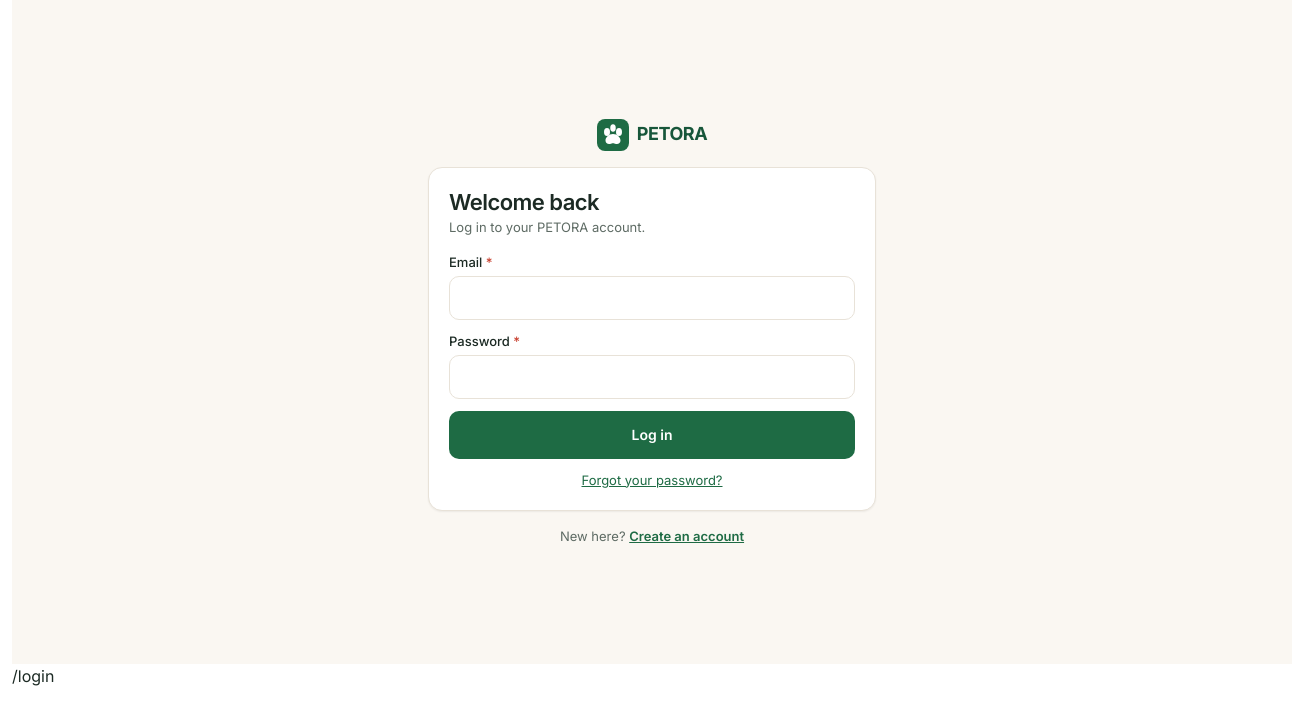
Test: login form › rejects a malformed email
Type "not-an-email" into the field labelled "Email *" at [652, 298], box [449,276,855,320]
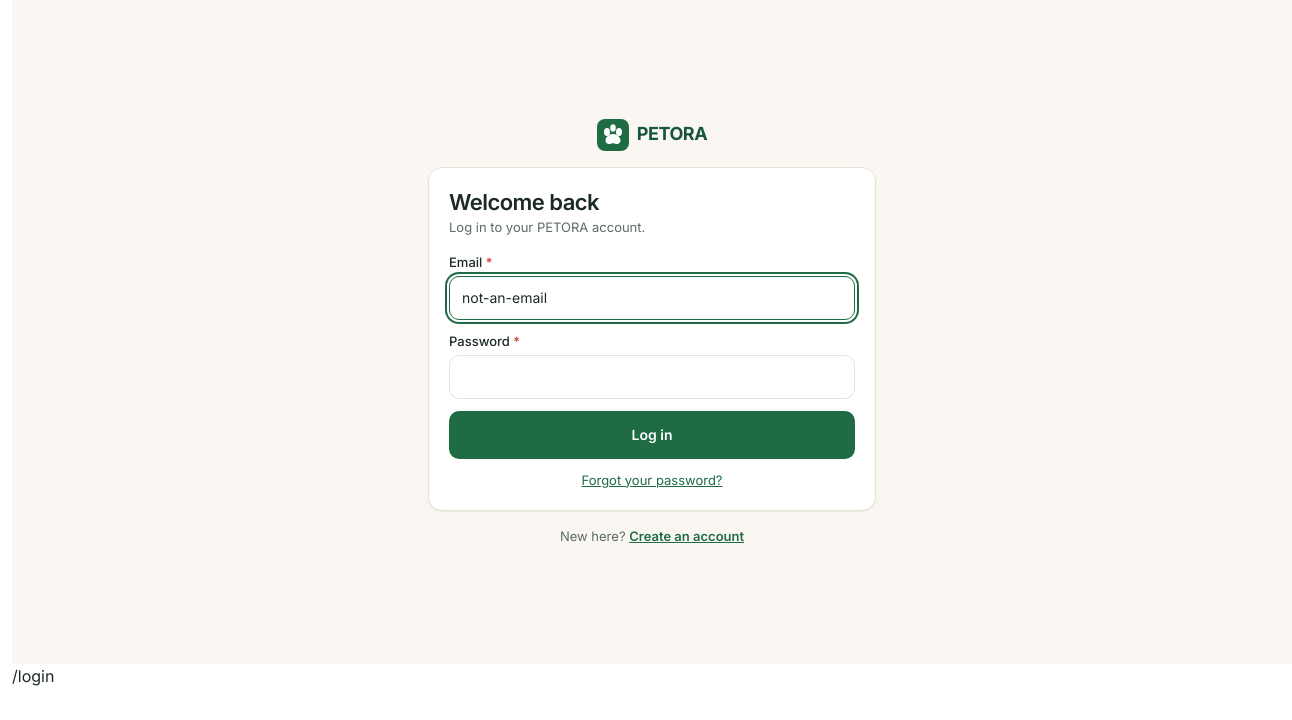
Type "x" into the password field labelled "Password *" at [652, 377], box [449,355,855,399]
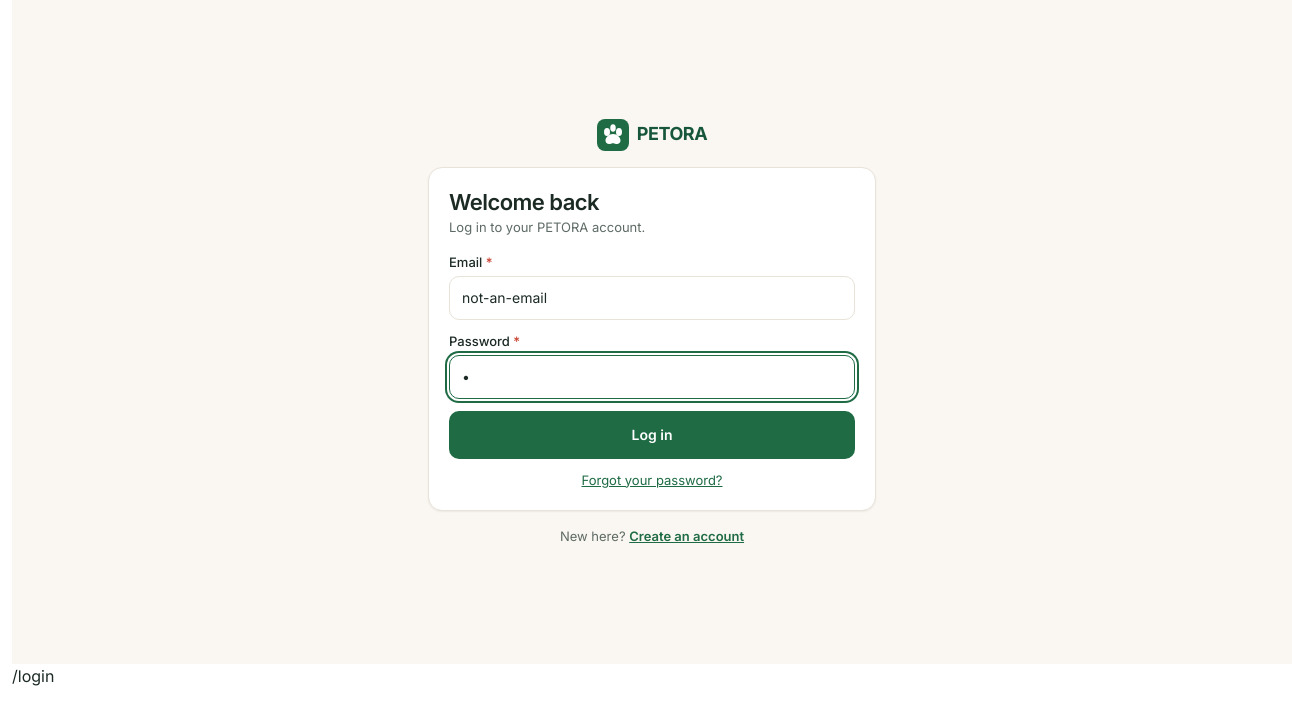
Click the button "Log in" at [652, 435], box [449,411,855,459]
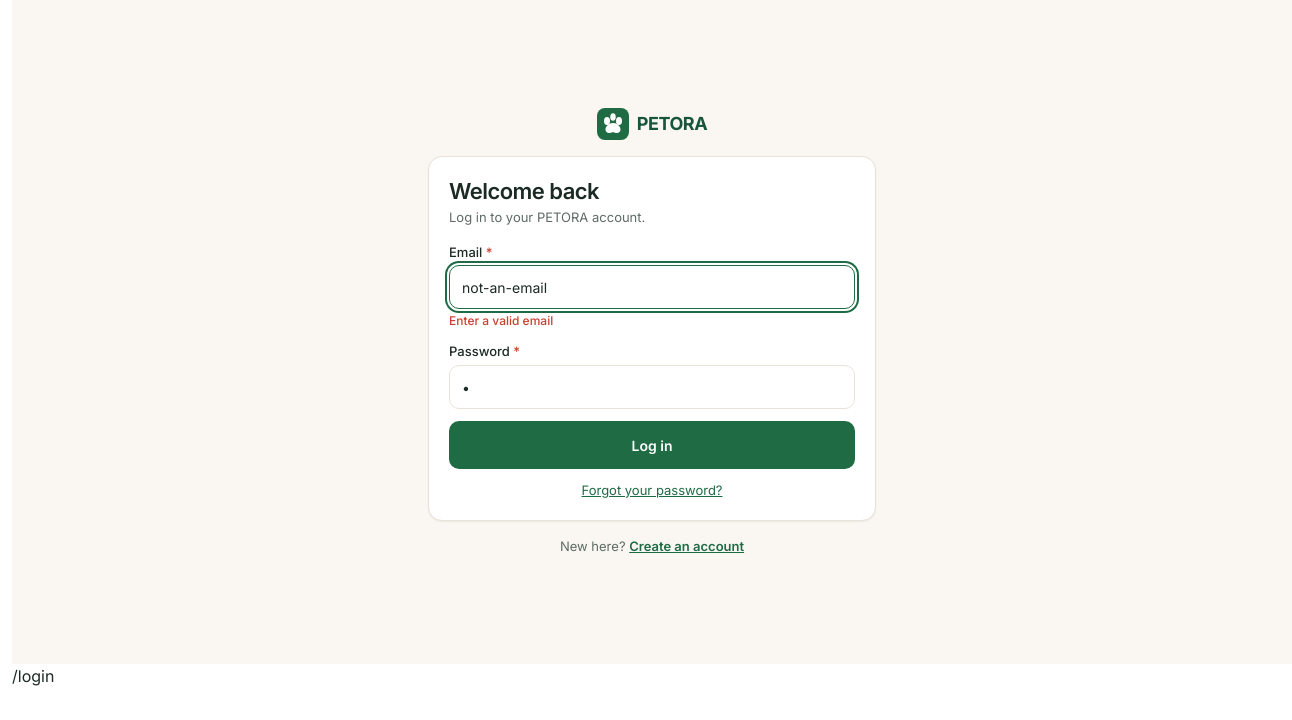
Now the text "Enter a valid email" is shown, box [449,314,553,328]
